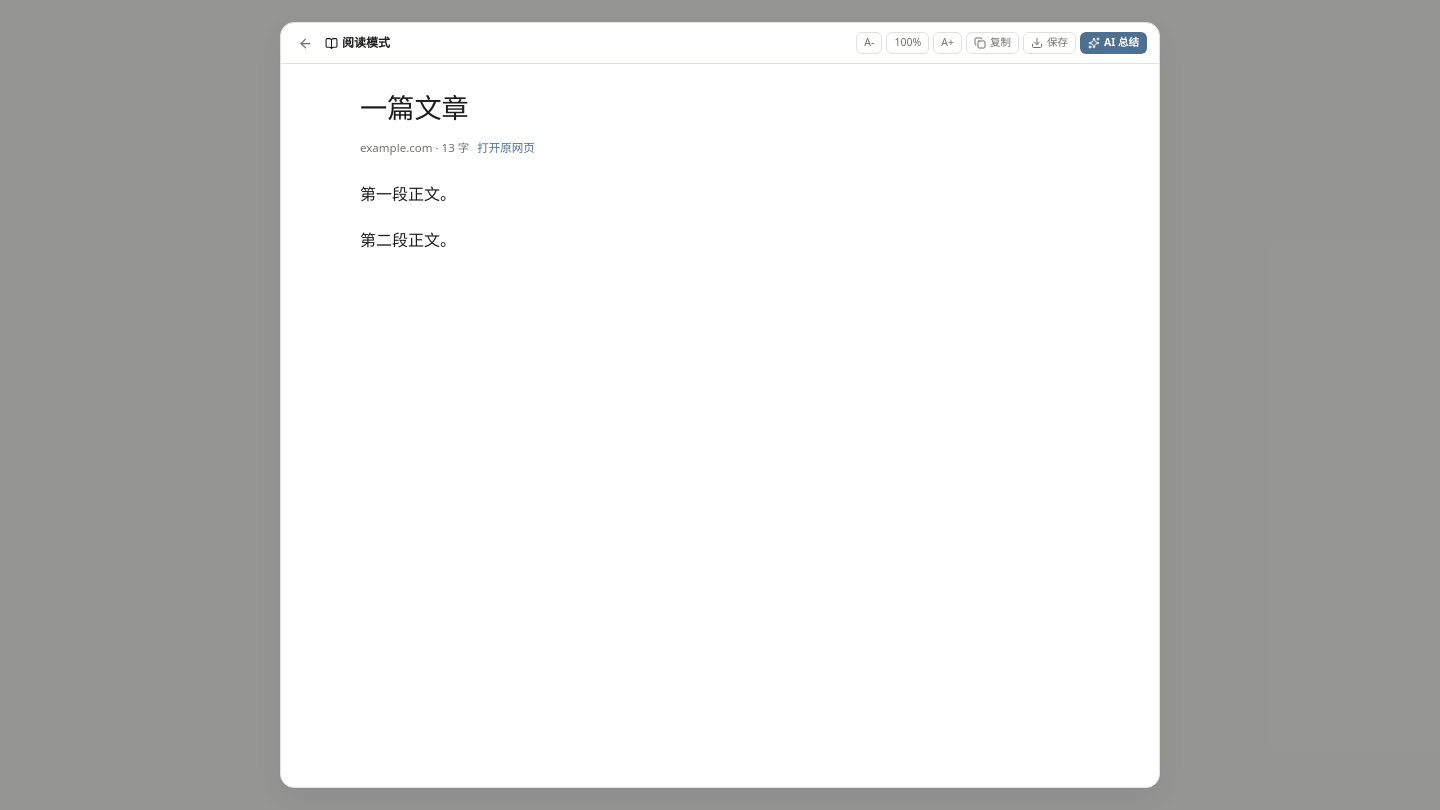
Test: ReaderMode › 字号按钮调整百分比
This screenshot has width=1440, height=810.
Expected: the heading "一篇文章" is shown, [360, 89, 469, 126]
Click the button "A+".
click(948, 43)  # box [933, 32, 962, 54]
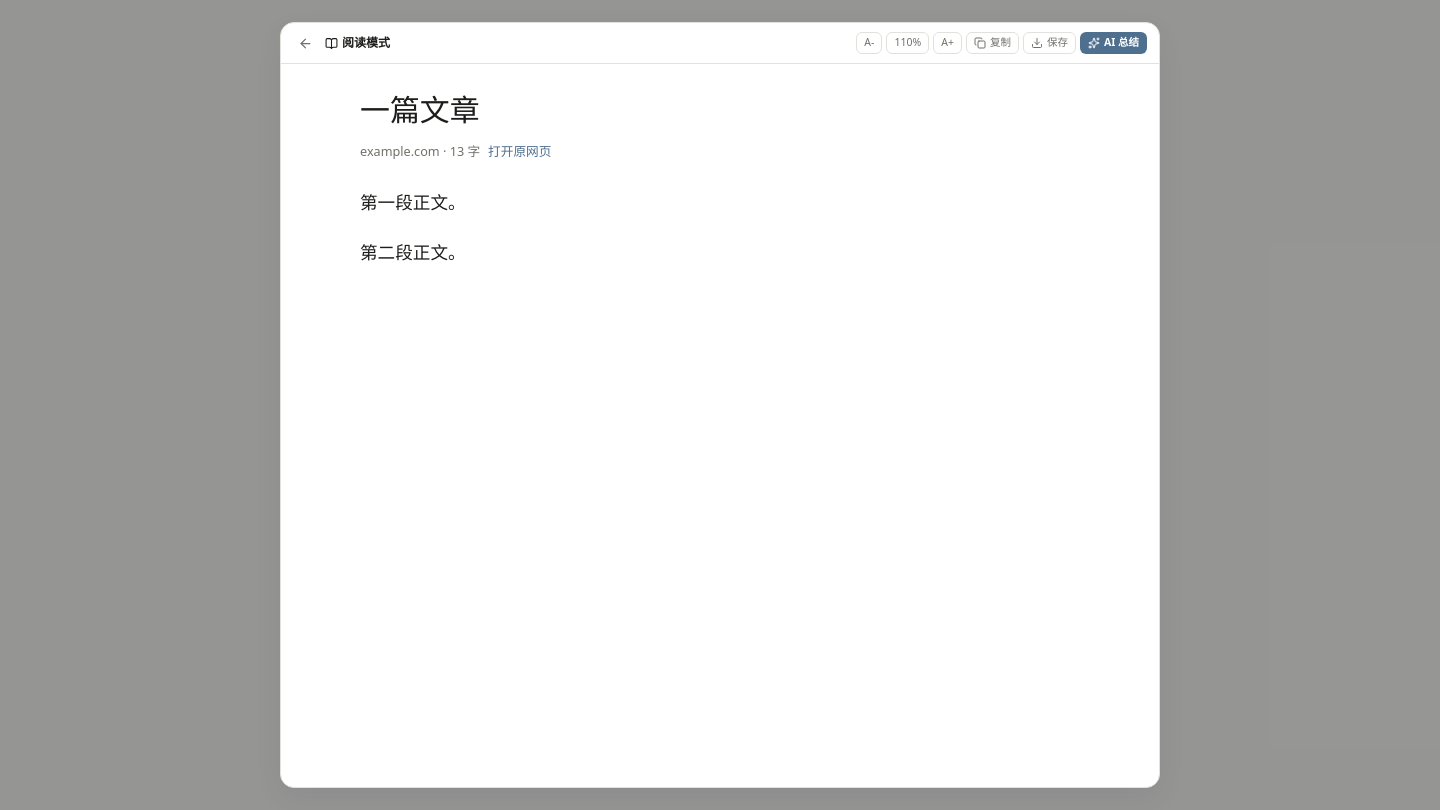
Expected: the button "110%" is shown, [886, 32, 929, 54]
Click the button "A-".
click(869, 43)  # box [856, 32, 882, 54]
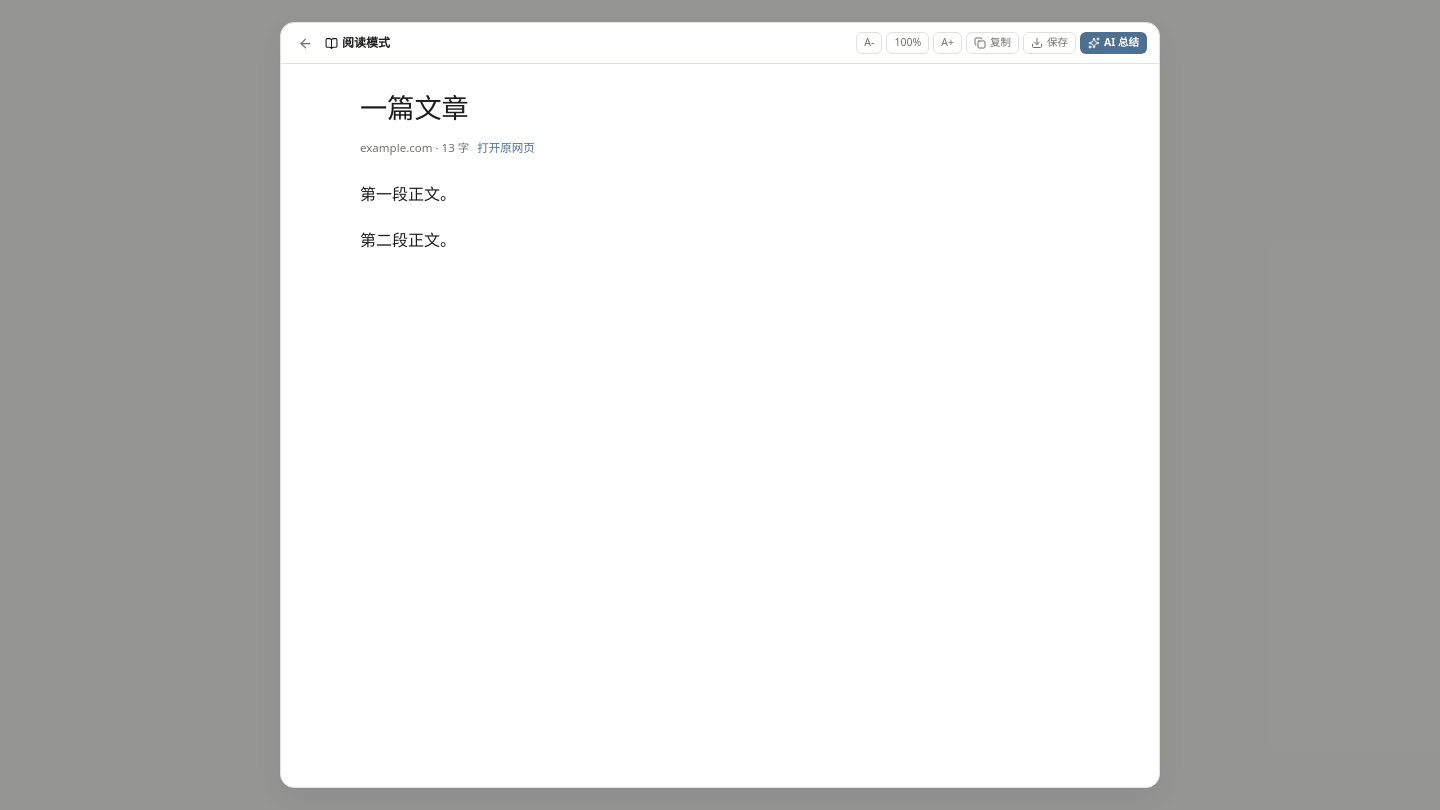
Expected: the button "100%" is shown, [886, 32, 929, 54]
